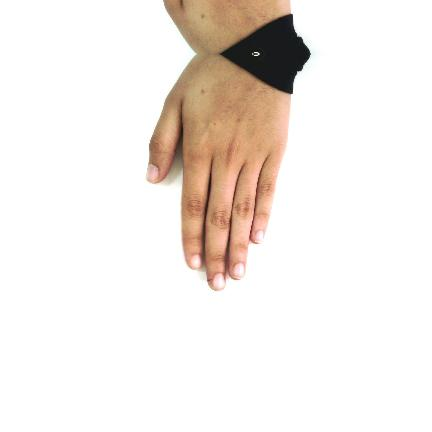Nail: (146, 163, 159, 183), (232, 262, 245, 279), (213, 273, 225, 291), (190, 254, 202, 269), (254, 230, 264, 243)
